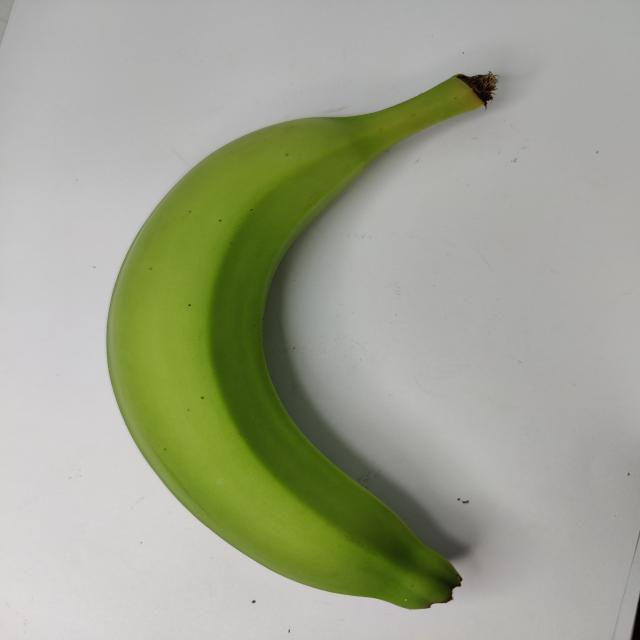raw: (90, 48, 554, 614)
